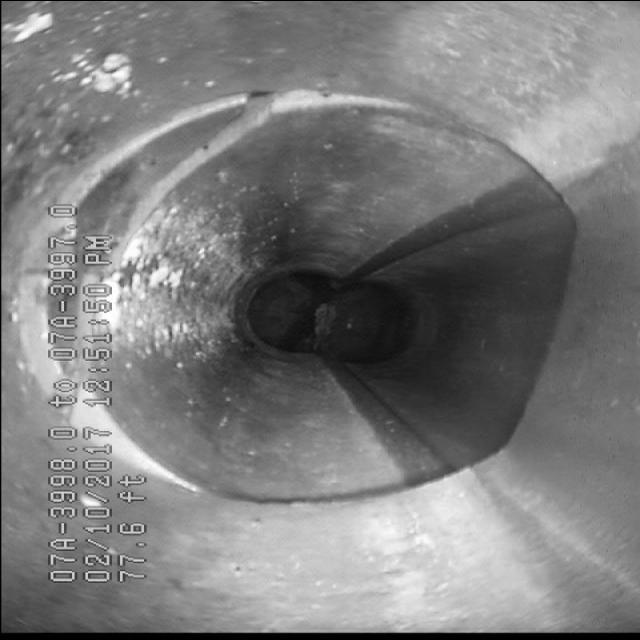Fracture: (73, 90, 284, 220)
